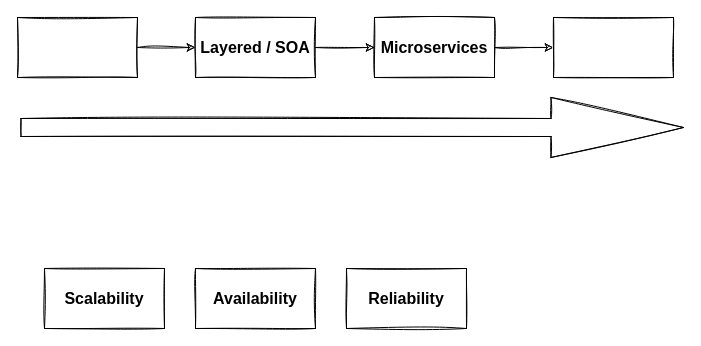
This 701x346 diagram has some shape labels left out. The shapes that lost their labels are listed below. From the top down, each one's box as (x1, y1, x2, y2) in pixels, then its label:
(16, 16, 138, 78): Monolithic
(552, 16, 674, 78): Event-Driven Microservices
(20, 96, 684, 158): Design Architecture Journey
